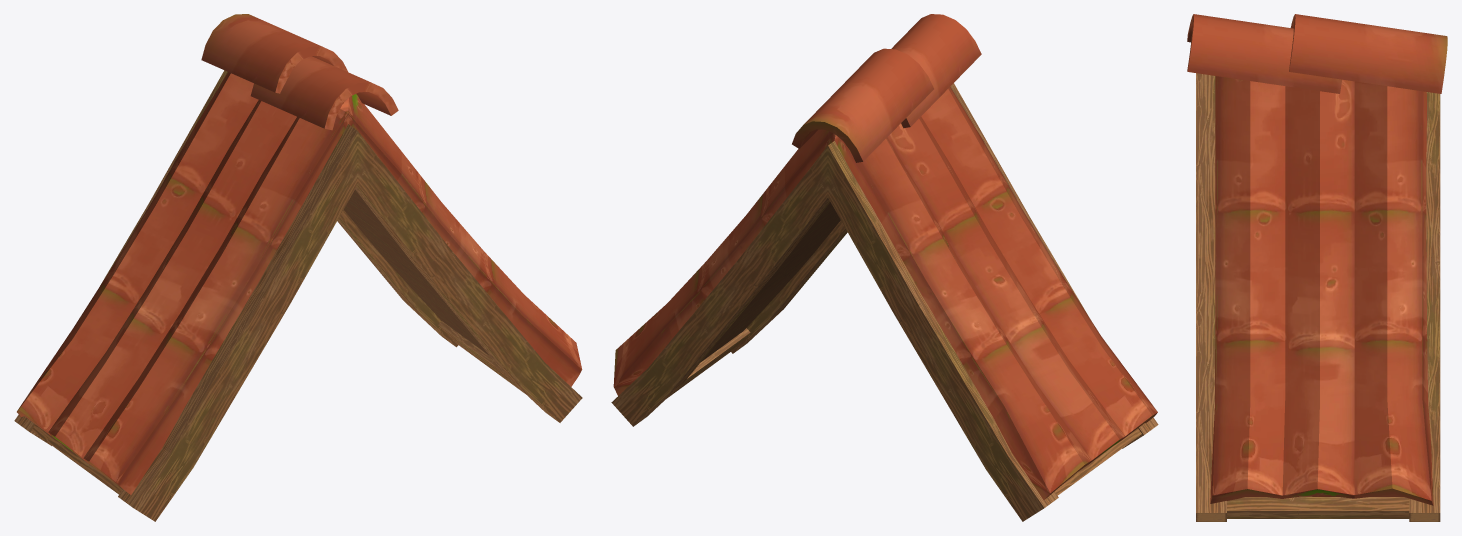
The model's file is Roof_RoundTile_2x1_Long.glb.
3 renders of one model, left to right at view 1: azimuth 30°, elevation 25°; view 2: azimuth 150°, elevation 25°; view 3: azimuth 270°, elevation 25°, orthographic. The views are drawn at different scales.
Visible parts, largest first — view 1: Roof_RoundTile_2x1_Long; view 2: Roof_RoundTile_2x1_Long; view 3: Roof_RoundTile_2x1_Long.
Boxes of the visible parts, x1,y1,x2,y2 form: Roof_RoundTile_2x1_Long: (14, 14, 582, 521); Roof_RoundTile_2x1_Long: (611, 14, 1158, 521); Roof_RoundTile_2x1_Long: (1187, 14, 1447, 521).
Size of the model in its own units: 4.35 by 3.33 by 1.95.
Materials: 2 (2 with a texture image).
